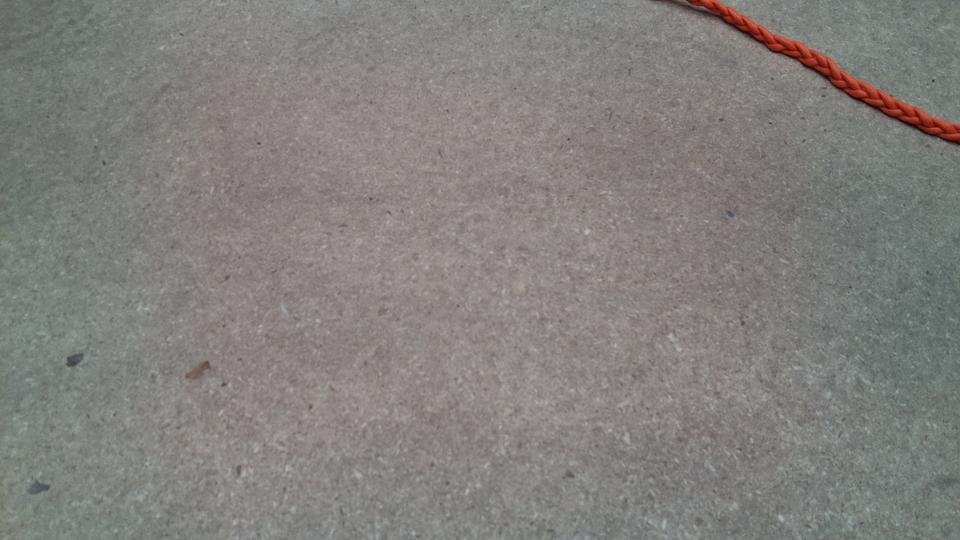rope: (695, 1, 960, 134)
